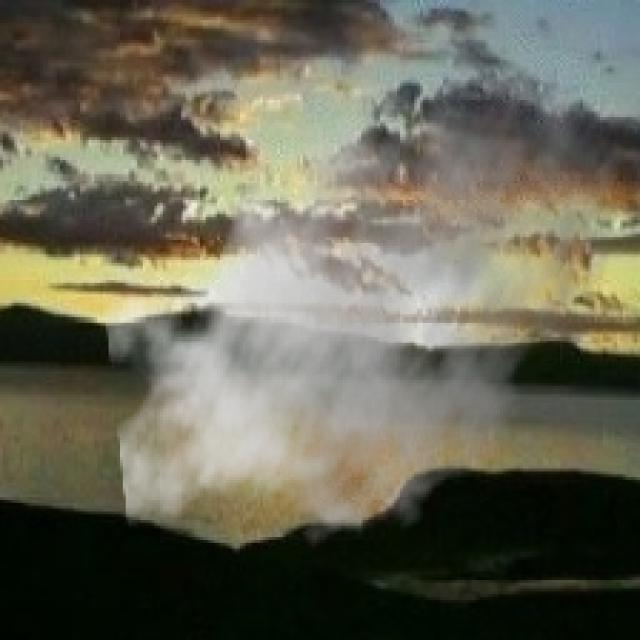smoke: (103, 34, 628, 563)
